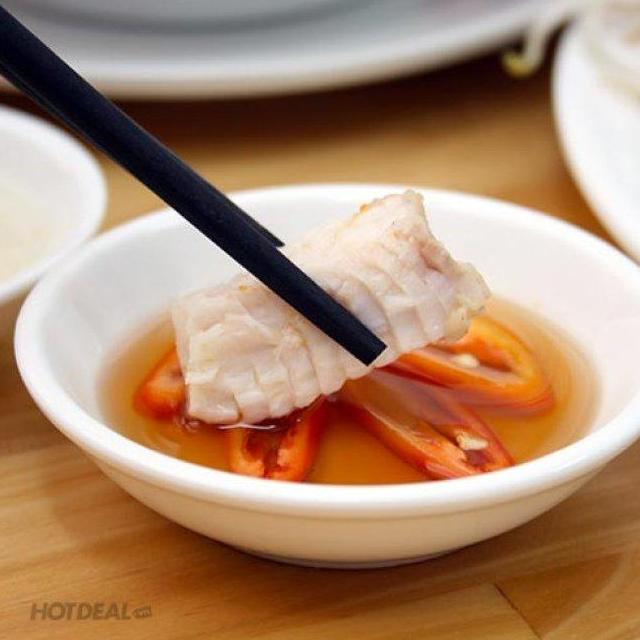ca: (171, 172, 499, 439)
